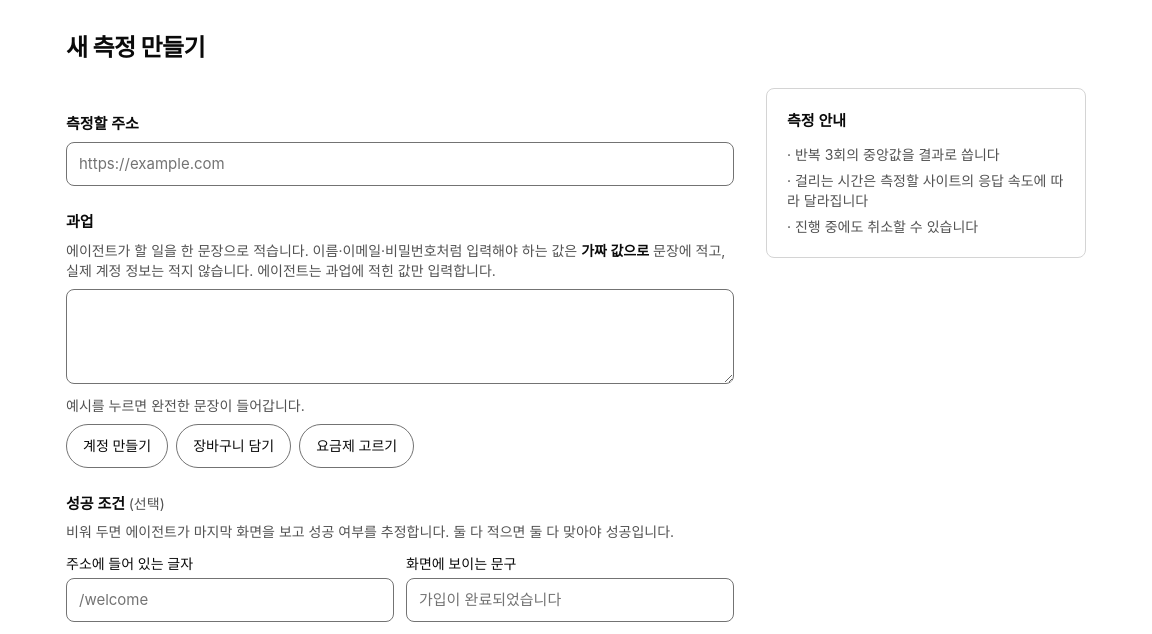
Test: F-05: 칩 확인 상자는 Esc·그대로 두기로 닫히고 연 칩으로 포커스가 돌아온다
This screenshot has width=1152, height=634.
Later steps or results of the test are not shown.
Type "직접 적은 과업" into the text box labelled "과업" at (400, 336), box top-left (66, 289), bottom-right (734, 384)
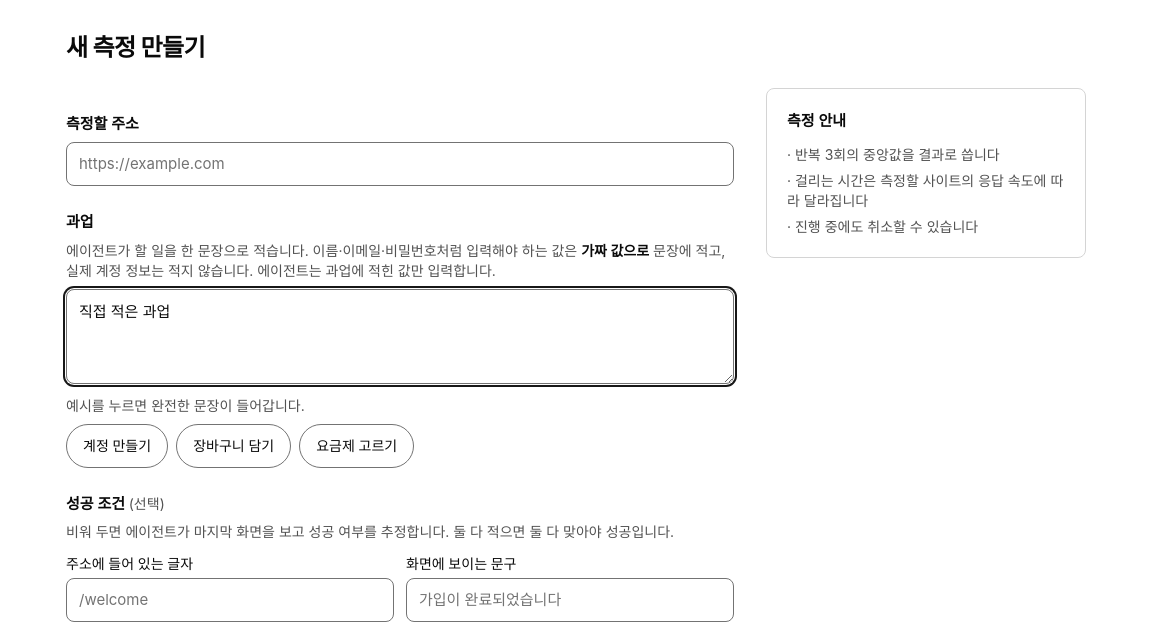
Click the button "장바구니 담기" at (234, 446), box top-left (176, 424), bottom-right (291, 468)
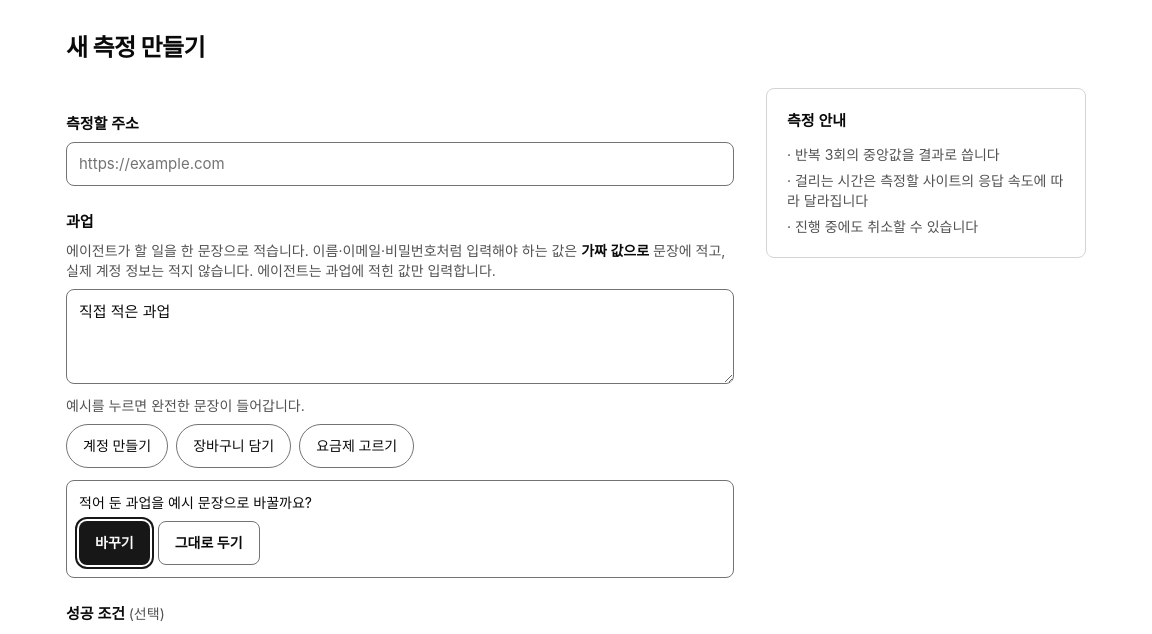
Check: the dialog is shown, box top-left (66, 480), bottom-right (734, 578)
Press Escape
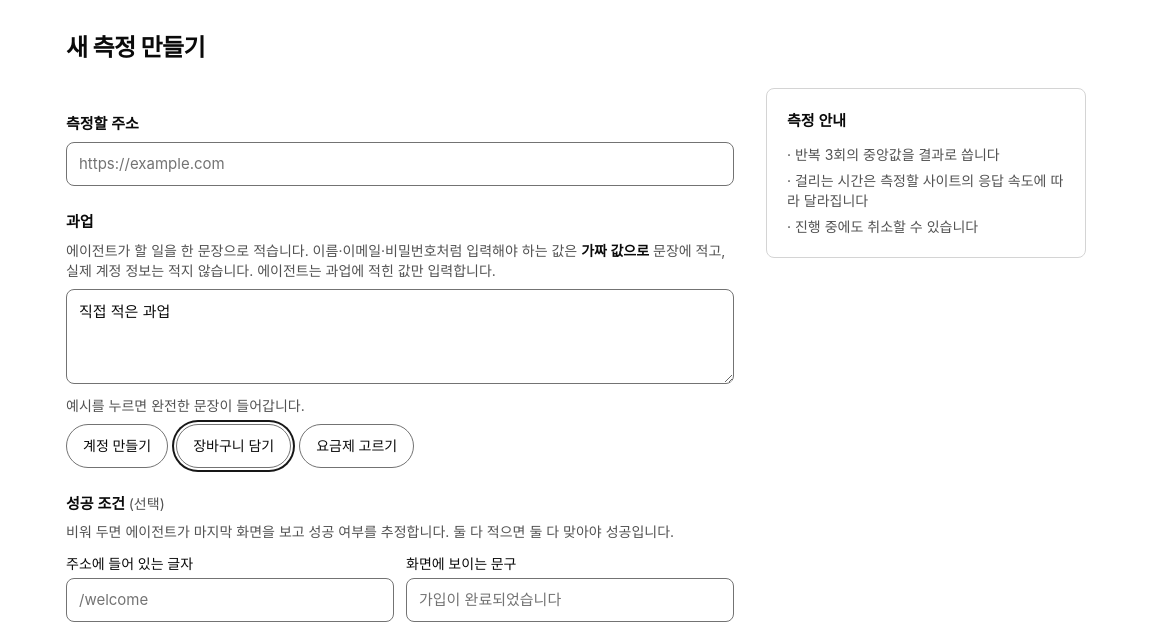
Check: the dialog is gone
